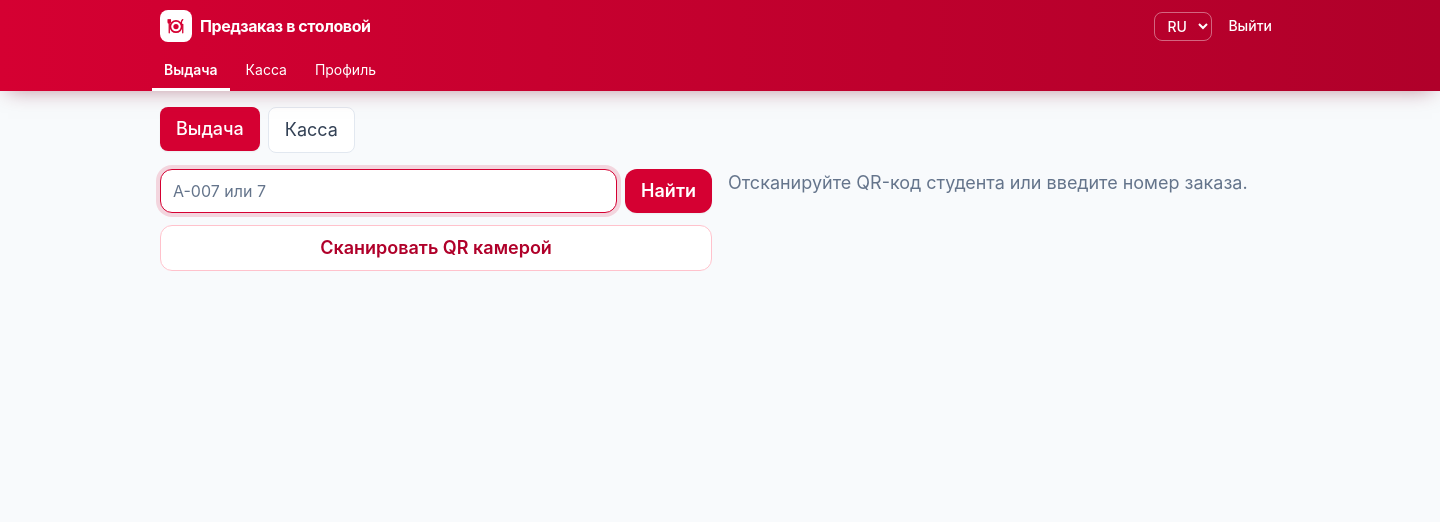
Test: pickup › finds an order by number and hands it over
Step 1. Type "7" into the field named "Номер заказа" → (389, 191), box [160,169,617,213]
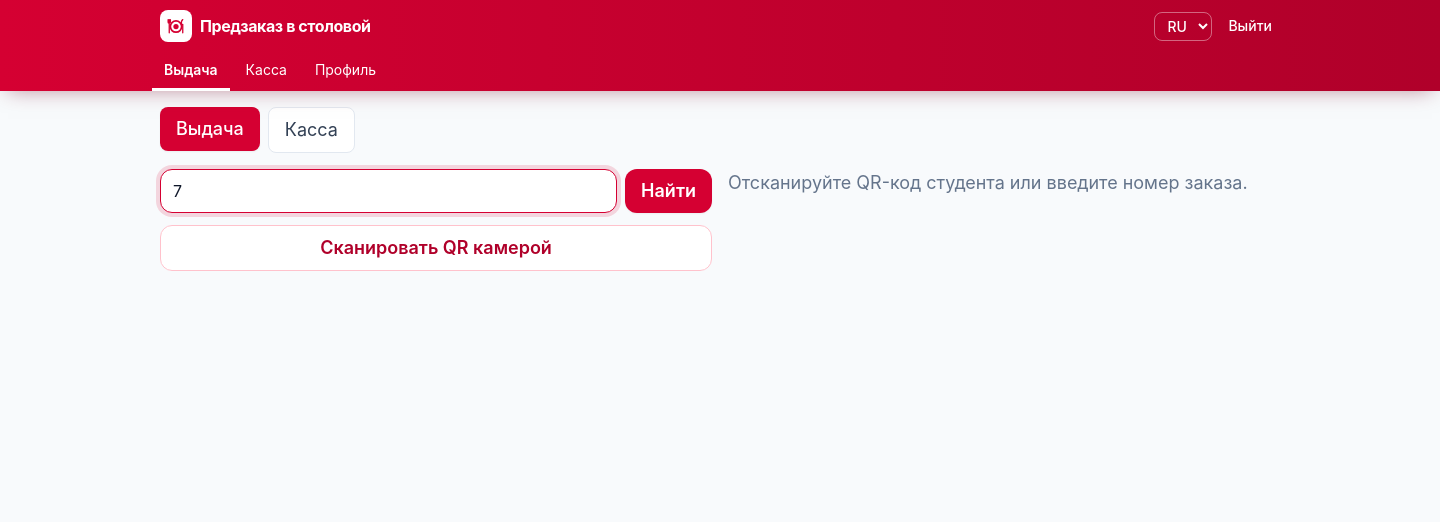
Step 2. Click the button "Найти" → (669, 191), box [625,169,712,213]
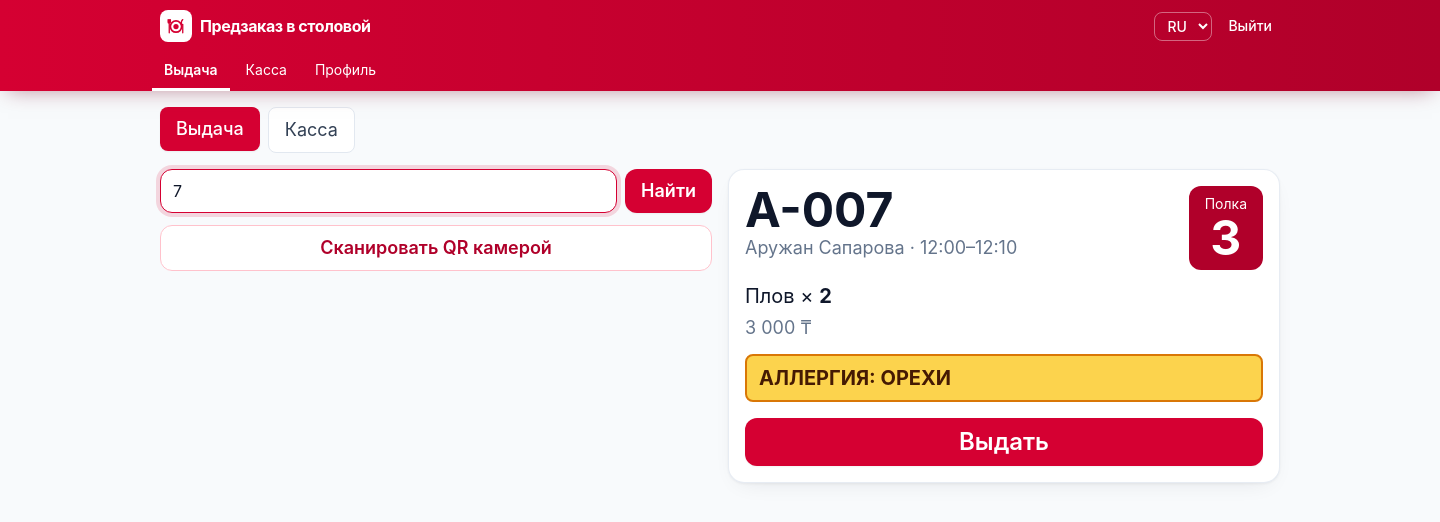
Expected: the text "A-007" is shown, [745,180,893,239]
Expected: the text with test id "shelf" reads "3", [1210,208,1241,267]
Expected: the text "АЛЛЕРГИЯ: ОРЕХИ" is shown, [745,354,1263,402]
Step 3. Click the button "Выдать" → (1004, 442), box [745,418,1263,466]
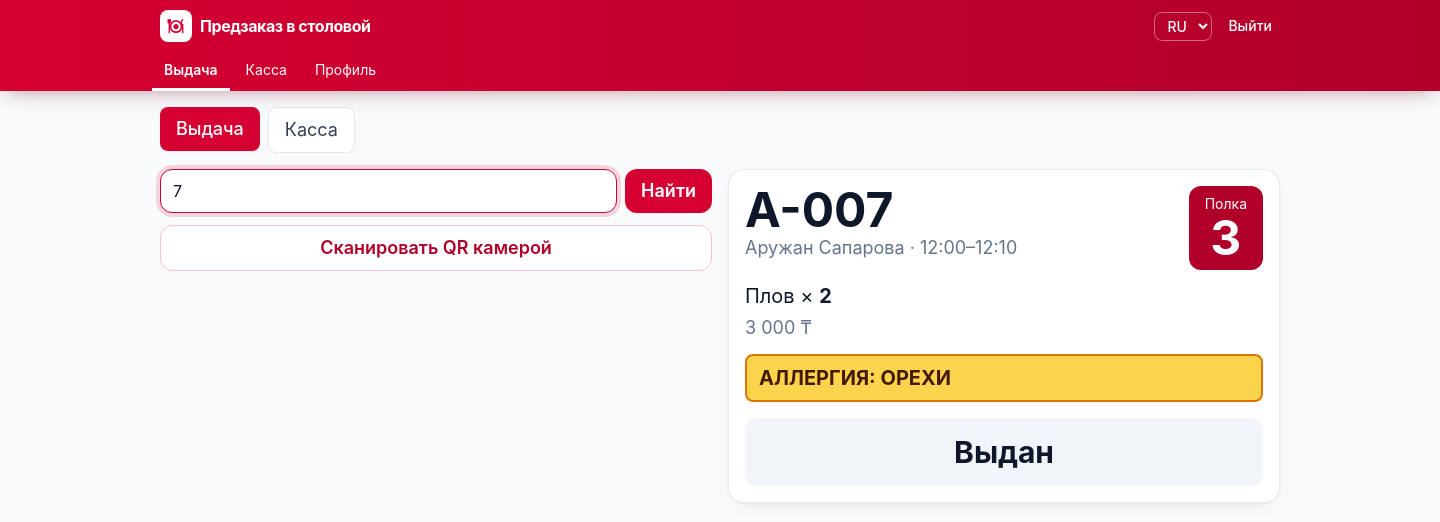
Expected: the text "Выдан" is shown, [745,418,1263,486]
